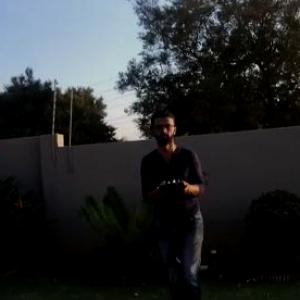follow: (137, 102, 211, 299)
